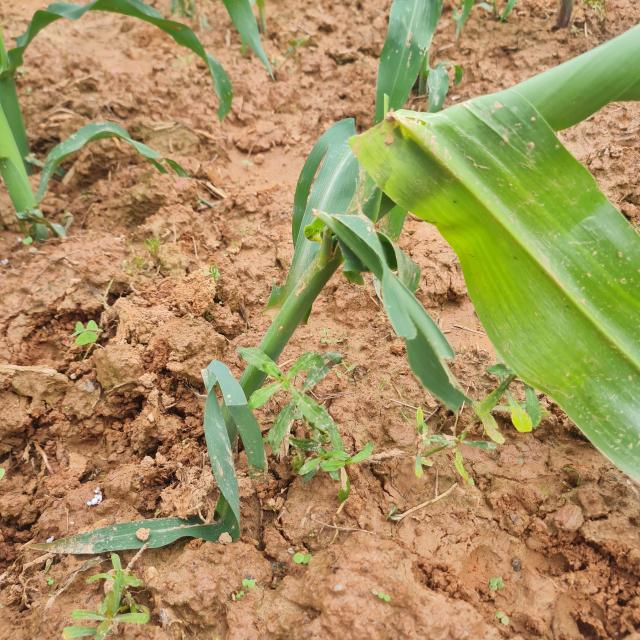maize: (248, 0, 640, 488), (1, 1, 239, 232)
weed: (226, 346, 356, 437), (408, 406, 500, 490), (287, 424, 379, 501), (64, 564, 154, 640), (64, 310, 114, 369), (120, 232, 167, 270), (478, 560, 516, 604), (290, 550, 321, 572)
